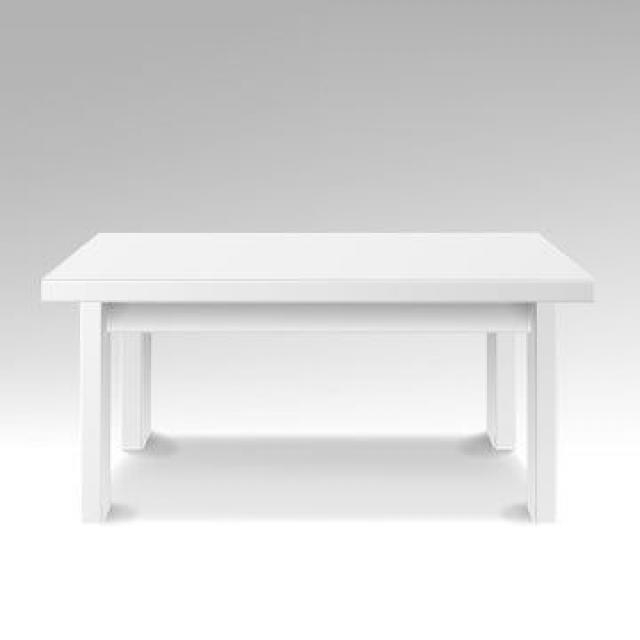Table: (39, 172, 613, 550)
